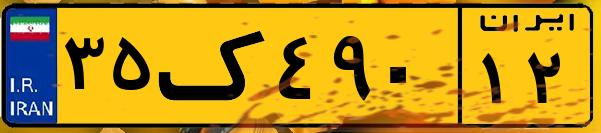0: (385, 28, 445, 110)
1: (475, 38, 525, 113)
2: (525, 38, 570, 115)
3: (57, 26, 110, 100)
4: (270, 28, 330, 110)
5: (110, 28, 158, 98)
9: (330, 28, 385, 110)
ک: (158, 12, 270, 120)
